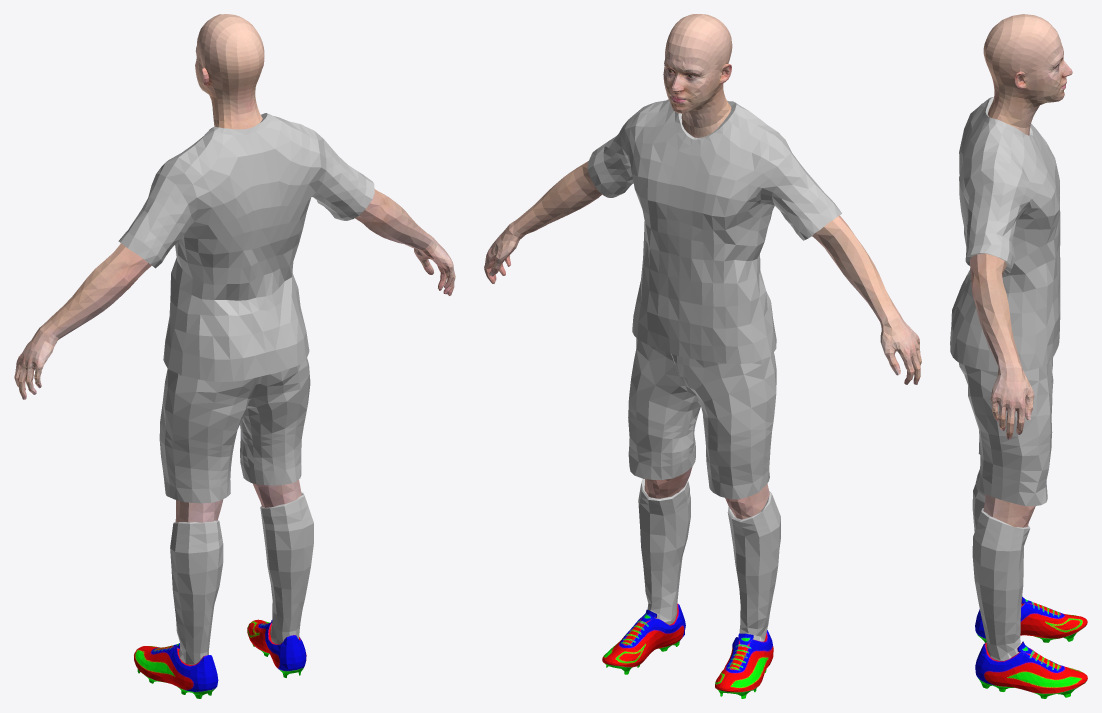
The model's file is short-untucked.obj.
3 views of the same model, side by side, from view 1: azimuth 30°, elevation 25°; view 2: azimuth 150°, elevation 25°; view 3: azimuth 270°, elevation 25° (orthographic).
Visible parts, largest first — view 1: shirt, shorts, socks, arms.001, head.003, boots.001, knees.001; view 2: shirt, shorts, socks, arms.001, head.003, boots.001, knees.001; view 3: shirt, shorts, head.003, socks, boots.001, arms.001, knees.001.
Part boxes in pixels (x1,y1,x2,y2): shirt: (118, 113, 374, 381); shorts: (159, 358, 310, 503); socks: (170, 492, 313, 664); arms.001: (14, 189, 455, 399); head.003: (195, 14, 264, 129); boots.001: (134, 619, 306, 698); knees.001: (175, 480, 301, 522); shirt: (587, 99, 841, 363); shorts: (628, 338, 776, 499); socks: (638, 479, 780, 641); arms.001: (484, 161, 921, 384); head.003: (663, 14, 732, 137); boots.001: (602, 603, 773, 698); knees.001: (644, 467, 769, 519); shirt: (950, 97, 1060, 372); shorts: (959, 358, 1053, 506); head.003: (983, 14, 1072, 135); socks: (972, 469, 1030, 660); boots.001: (975, 596, 1087, 698); arms.001: (970, 253, 1034, 439); knees.001: (983, 494, 1035, 527).
Size of the model in its own units: 1.24 by 1.79 by 0.3447.
